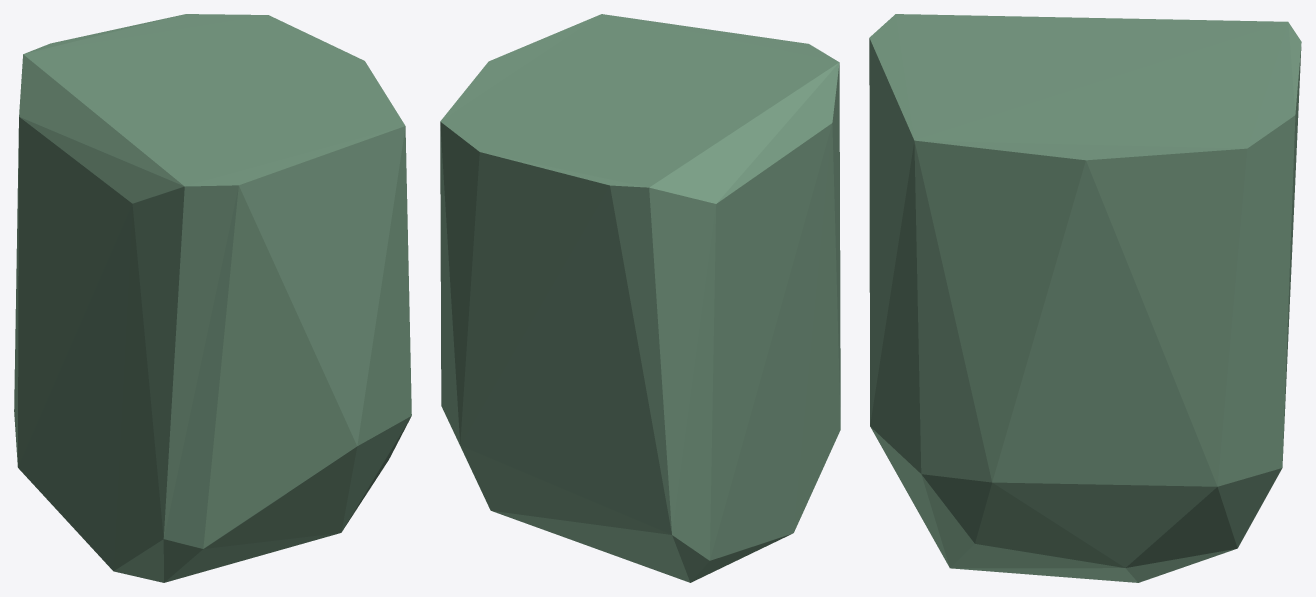
Rendered from white_tip.obj.
The picture shows the model from 3 angles, left to right: view 1: azimuth 30°, elevation 25°; view 2: azimuth 150°, elevation 25°; view 3: azimuth 270°, elevation 25°; orthographic projection. The views are drawn at different scales.
Size of the model in its own units: 0.0208 by 0.0299 by 0.0243.
